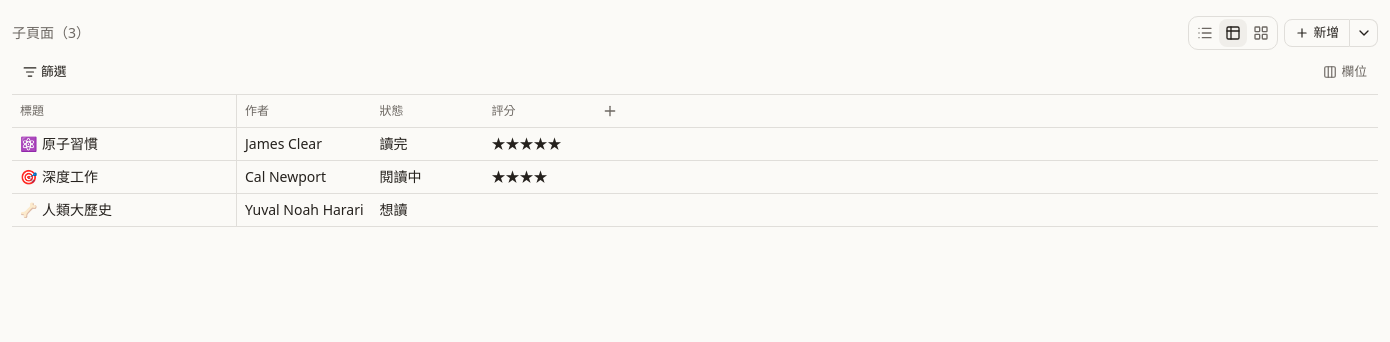
Scenario: ChildPages 表格 › 新增篩選條件
Click the button "篩選" at x=45, y=72, box [12,58,78,86]
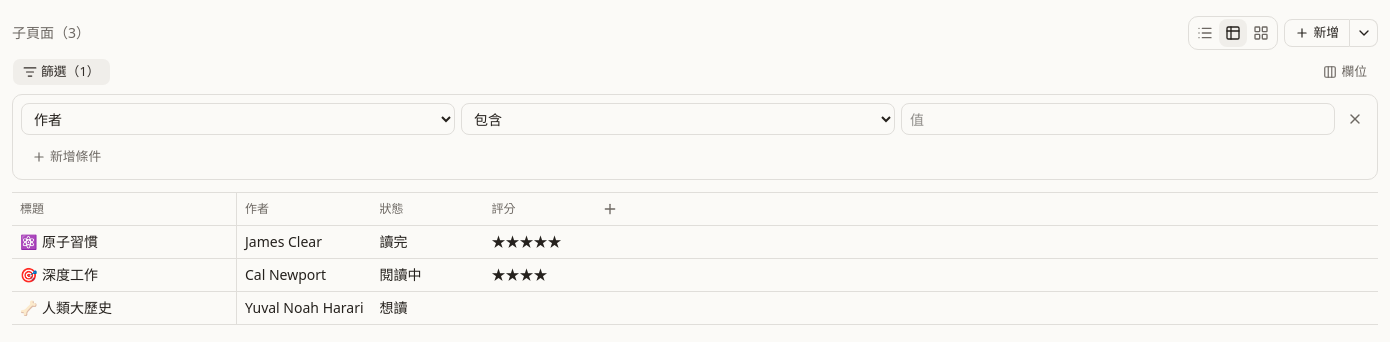
Type "clear" into the field named "條件值" at x=1118, y=119, box [901,103,1335,135]
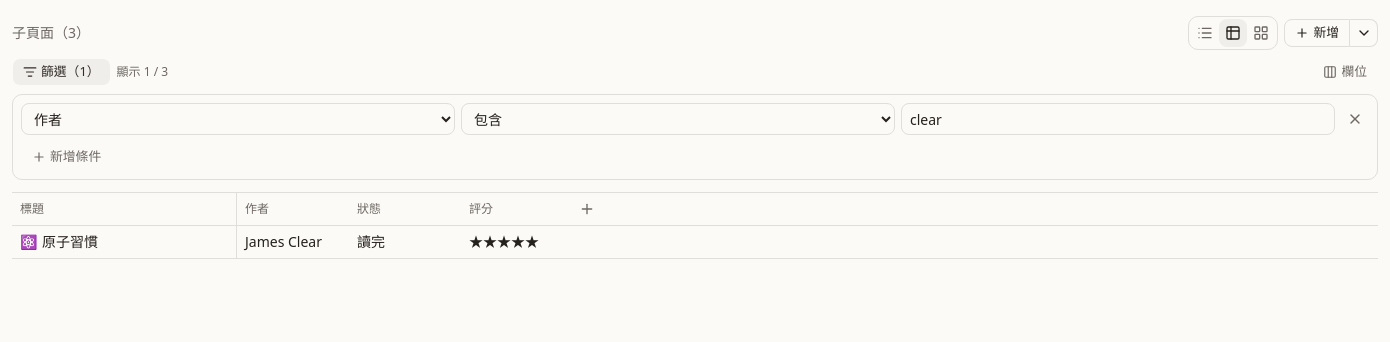
Check: the number of rows is 2, box [12,192,1378,226]; [12,226,1378,259]
